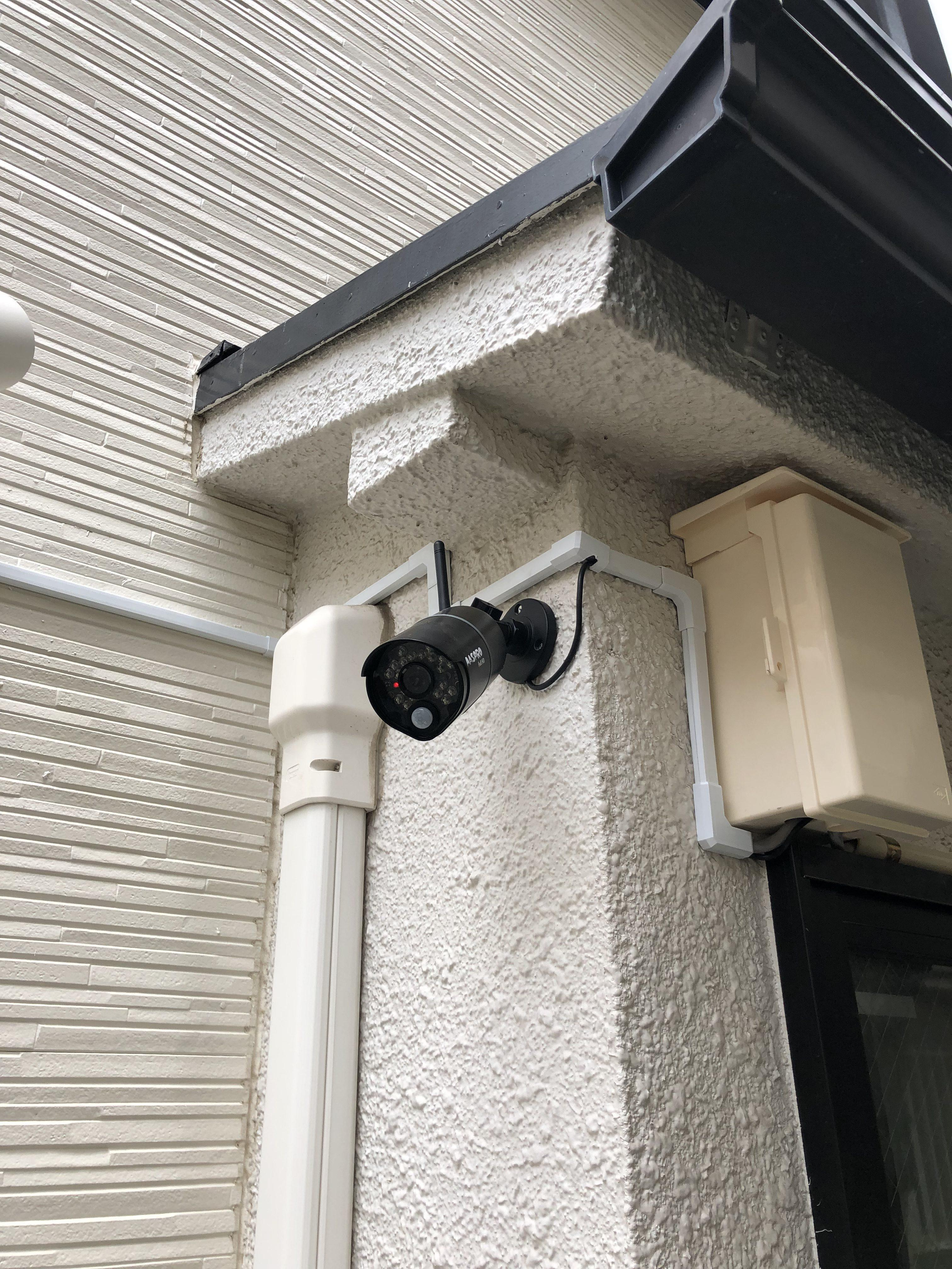tutu: (350, 576, 527, 758)
